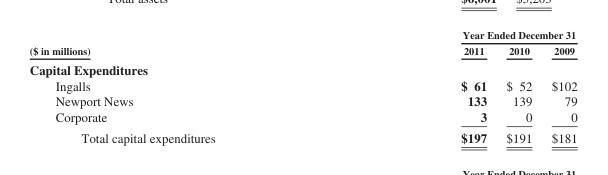table: (28, 28, 576, 144)
table column: (28, 28, 337, 144), (337, 28, 495, 144), (495, 28, 541, 144), (541, 28, 576, 144)
table column header: (28, 28, 576, 59)
table projected row header: (28, 59, 576, 77)
table row: (28, 59, 576, 77), (28, 108, 576, 126), (28, 126, 576, 144), (28, 42, 576, 59), (28, 77, 576, 93), (28, 93, 576, 108), (28, 28, 576, 42)
table spanning cell: (28, 28, 337, 59), (337, 28, 576, 42)
